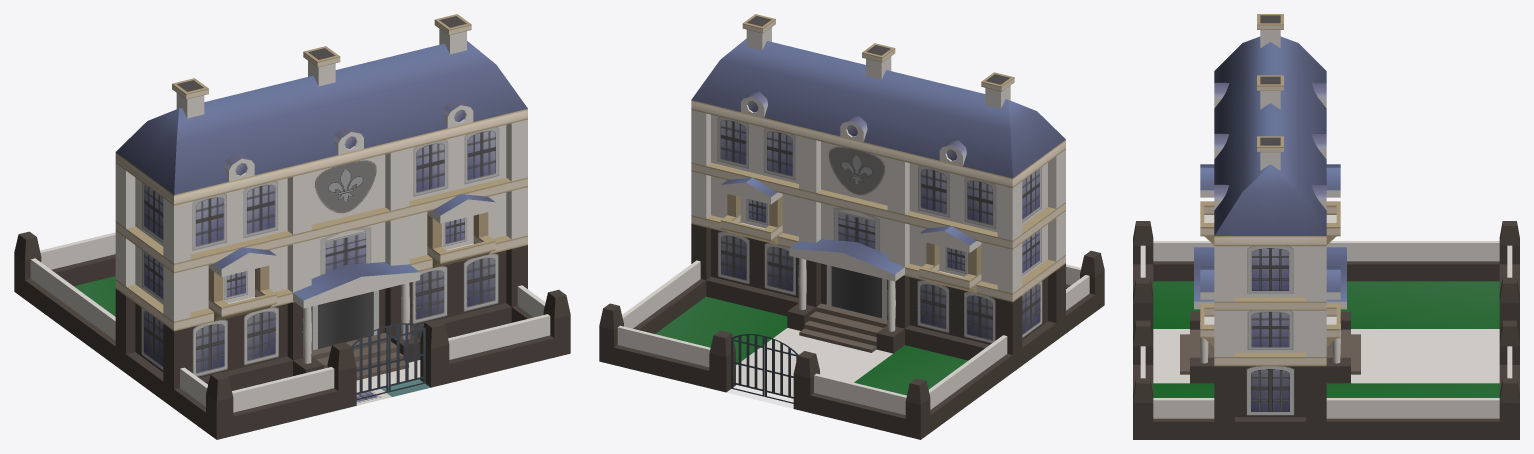
The model's file is Bat_Hotel.fbx.
3 views of the same model, side by side, from view 1: azimuth 30°, elevation 25°; view 2: azimuth 150°, elevation 25°; view 3: azimuth 270°, elevation 25° (orthographic). The views are drawn at different scales.
Visible parts, largest first — view 1: Base_hotel; view 2: Base_hotel; view 3: Base_hotel.
Part boxes in pixels (x1,y1,x2,y2): Base_hotel: [14, 14, 570, 439]; Base_hotel: [599, 14, 1104, 439]; Base_hotel: [1133, 14, 1519, 439].
Size of the model in its own units: 38.33 by 30.02 by 38.
